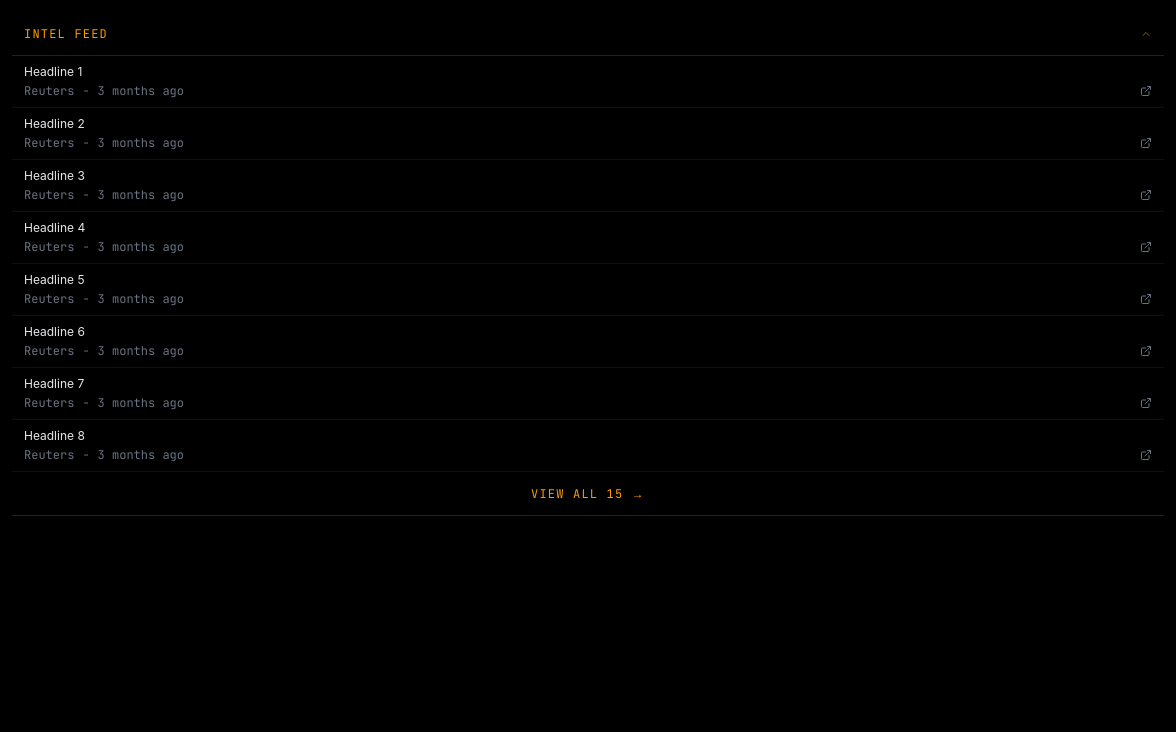
NewsPanel › still collapses the whole panel from its header
The image size is (1176, 732).
Check: the text "Headline 1" is shown, box [24, 64, 82, 79]
Step 1. Click the button with aria-label "collapse intel feed" → (66, 34), box [12, 12, 1164, 56]
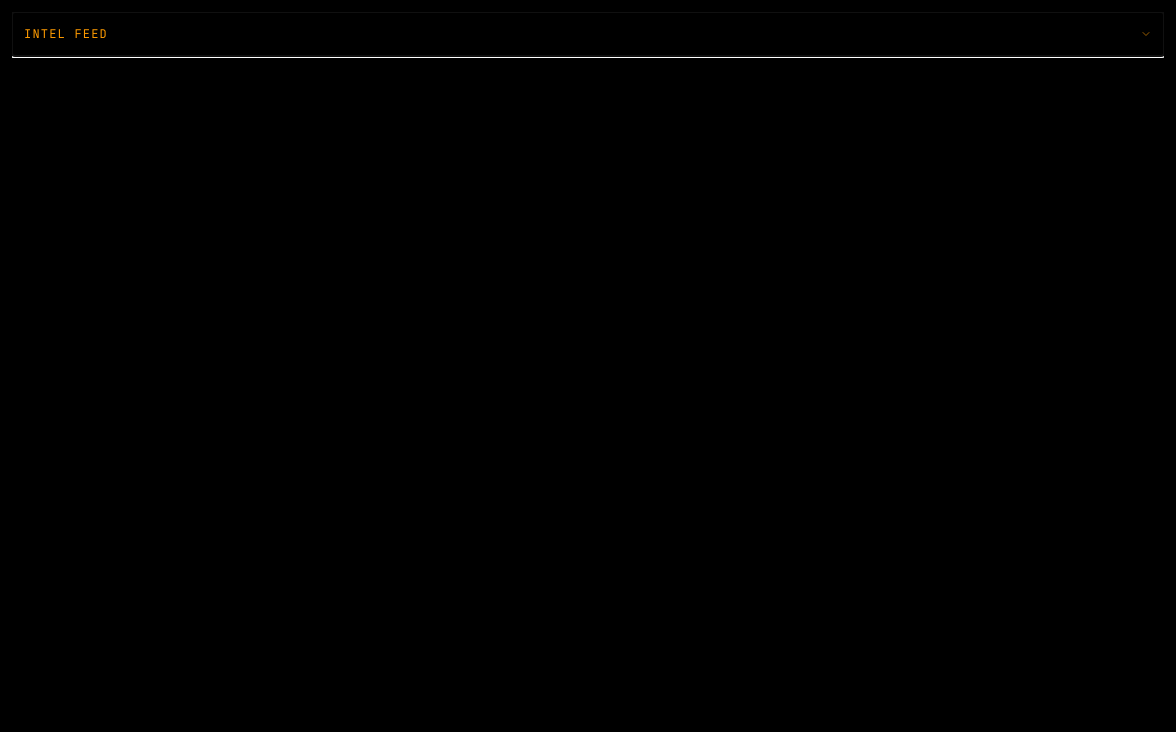
Check: the link "Headline 1" is gone
